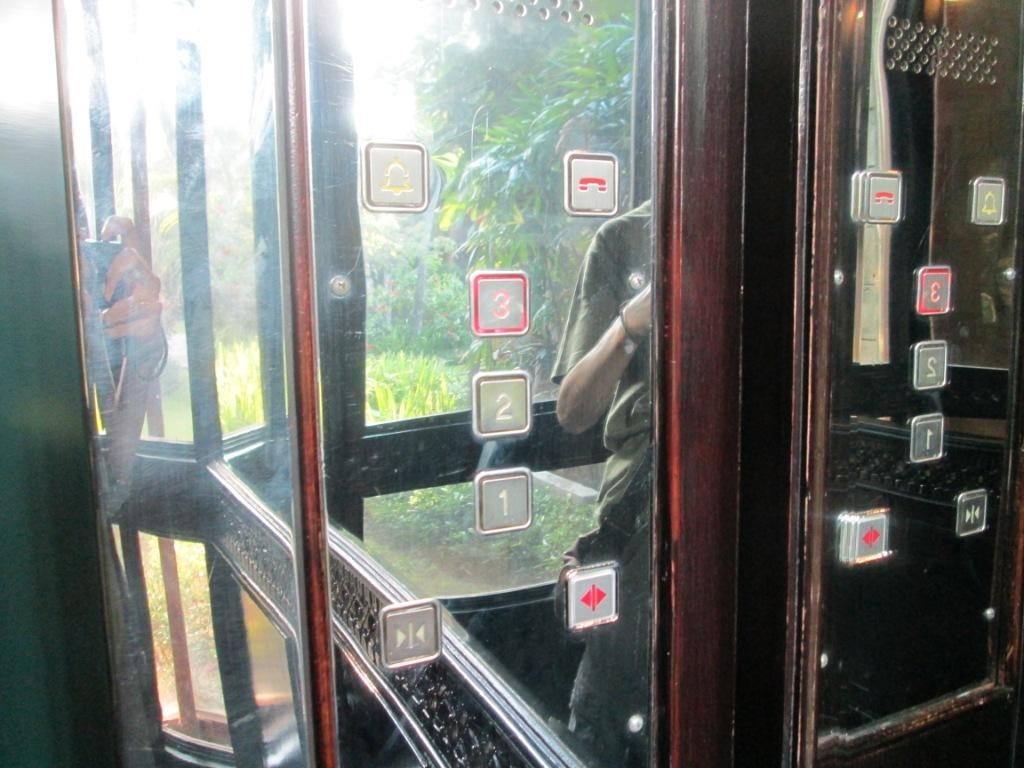1: (472, 466, 534, 535)
2: (469, 370, 533, 439)
3: (468, 269, 530, 338)
alarm: (359, 139, 430, 215), (970, 176, 1005, 226)
call: (562, 150, 618, 217), (858, 170, 903, 225)
close: (376, 598, 443, 670), (953, 489, 988, 537)
open: (560, 562, 622, 633), (842, 507, 891, 562)
unknown: (913, 265, 953, 315), (909, 339, 947, 390), (908, 413, 946, 462)
